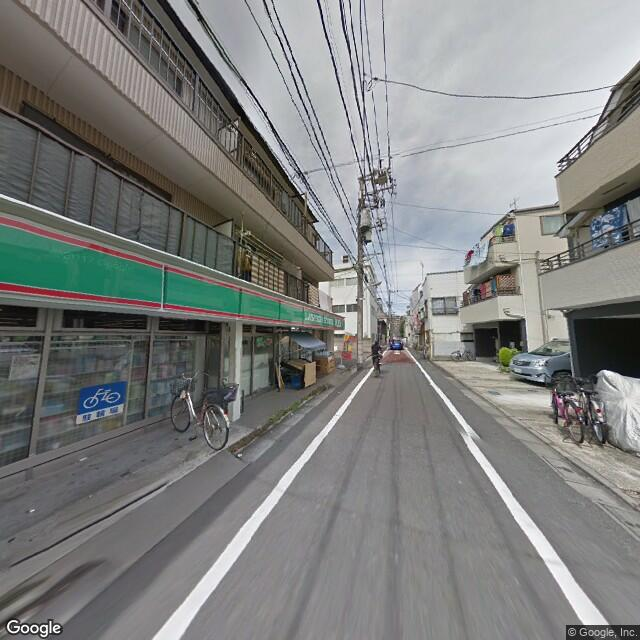lawson: (1, 209, 344, 332)
